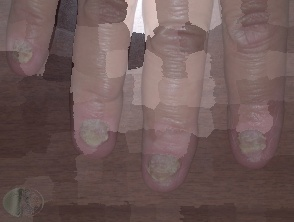Nail_psoriasis: (65, 100, 125, 161), (221, 114, 279, 170), (136, 136, 190, 195), (0, 26, 48, 76)
